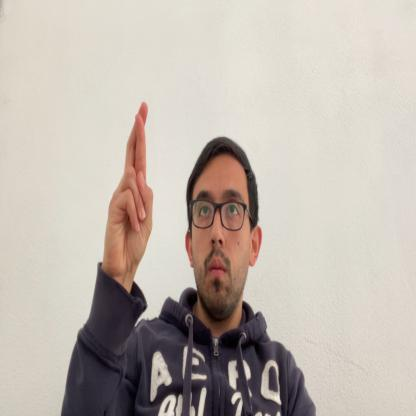R: (101, 101, 154, 289)
